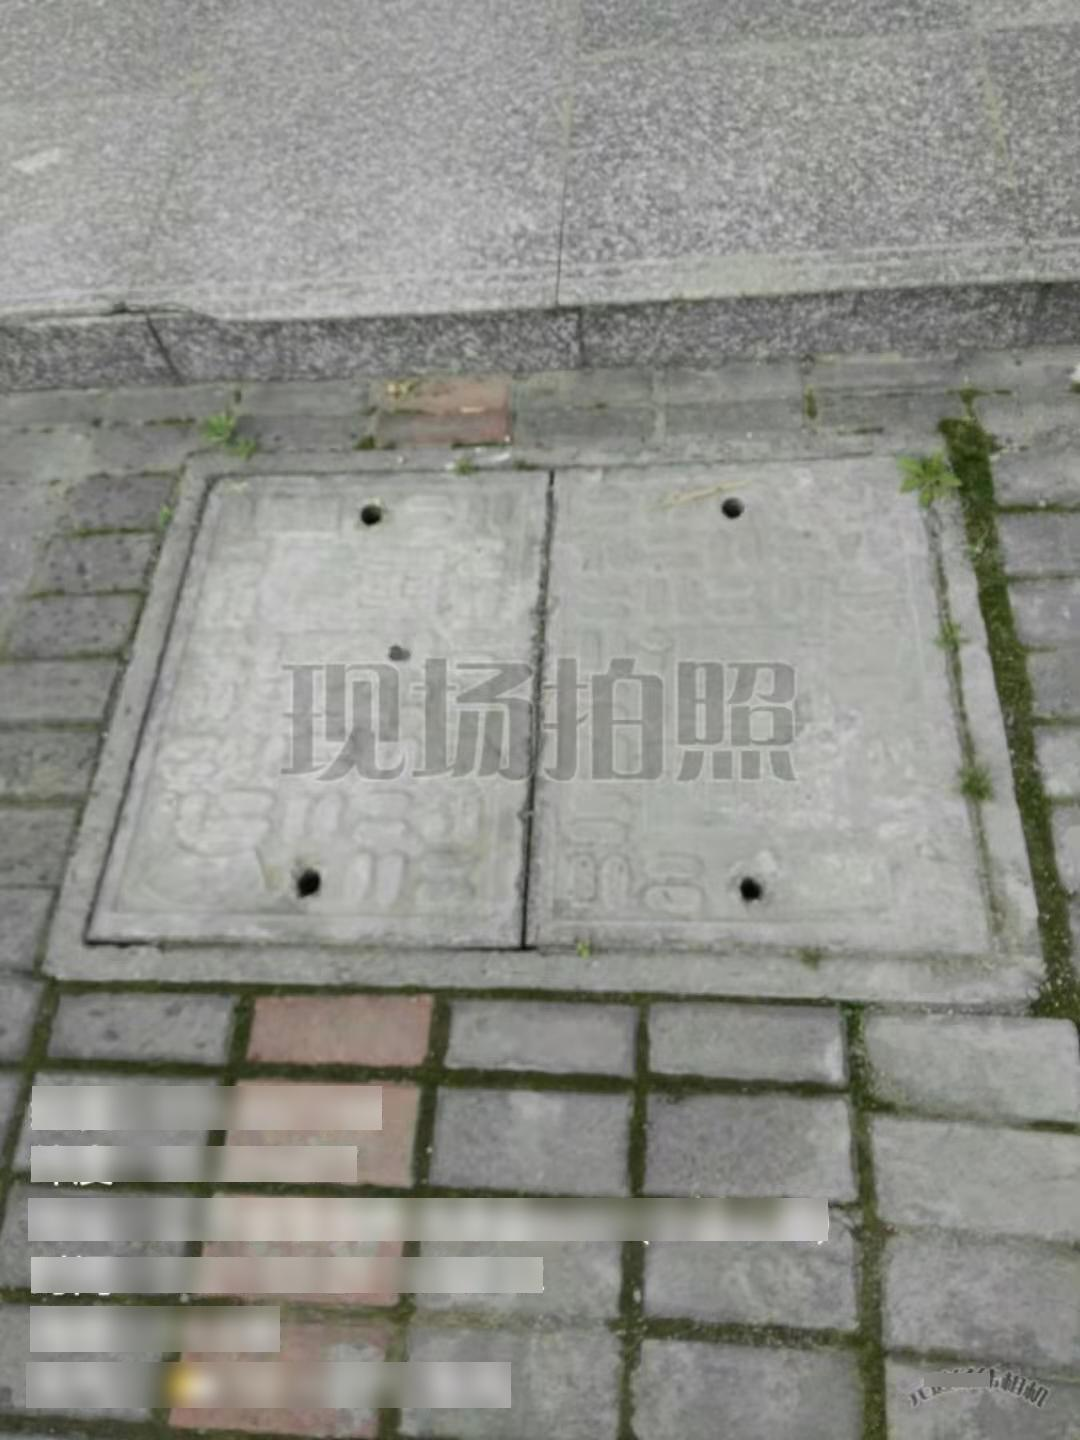wellcover: (93, 433, 1021, 999)
